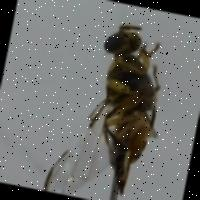Oriental-fruit-fly: (33, 7, 190, 200)
